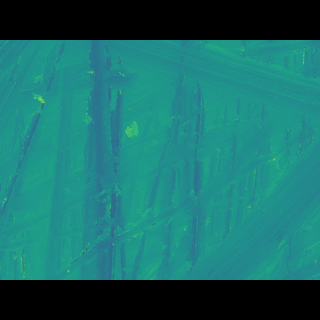Loch: (4, 72, 314, 245)
